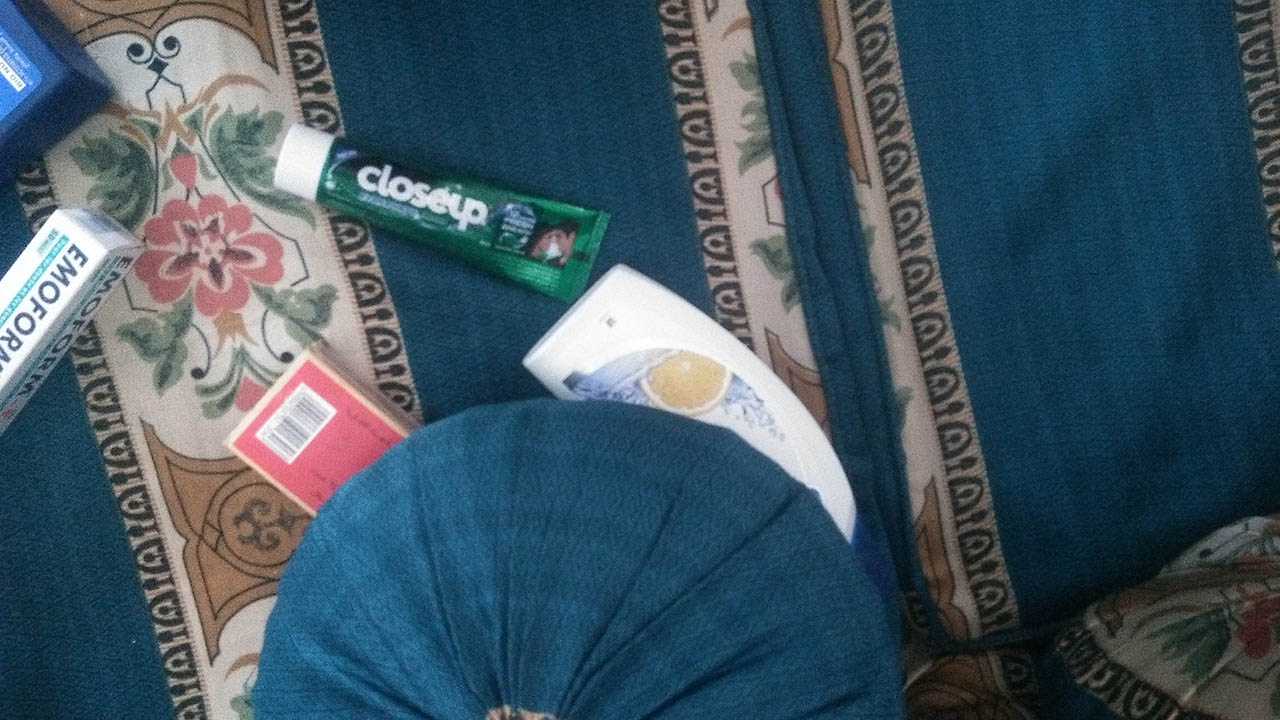Toothpaste-Closeup 3.04$: (262, 115, 610, 317)
Toothpaste-F 1.5$: (1, 197, 145, 456)
match-sticks .90$: (179, 352, 440, 542)
shampoo-Lemon 3.5$: (508, 255, 910, 581)
